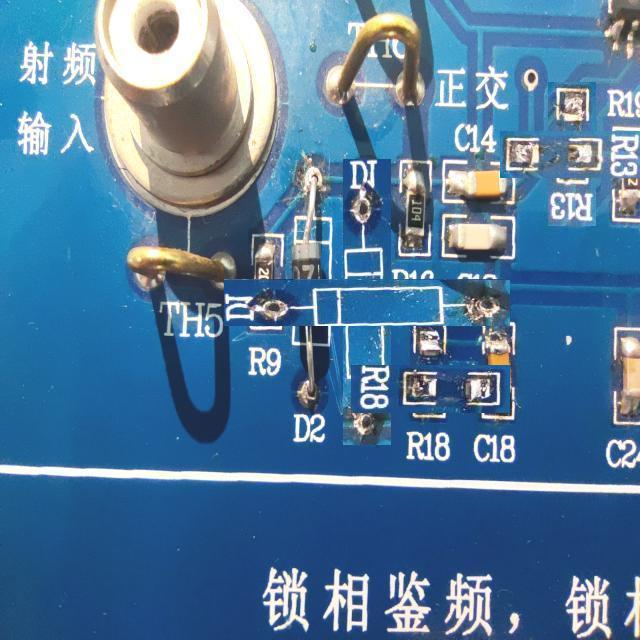miss_welding: (284, 218, 451, 386), (378, 338, 482, 442), (524, 106, 620, 202)
